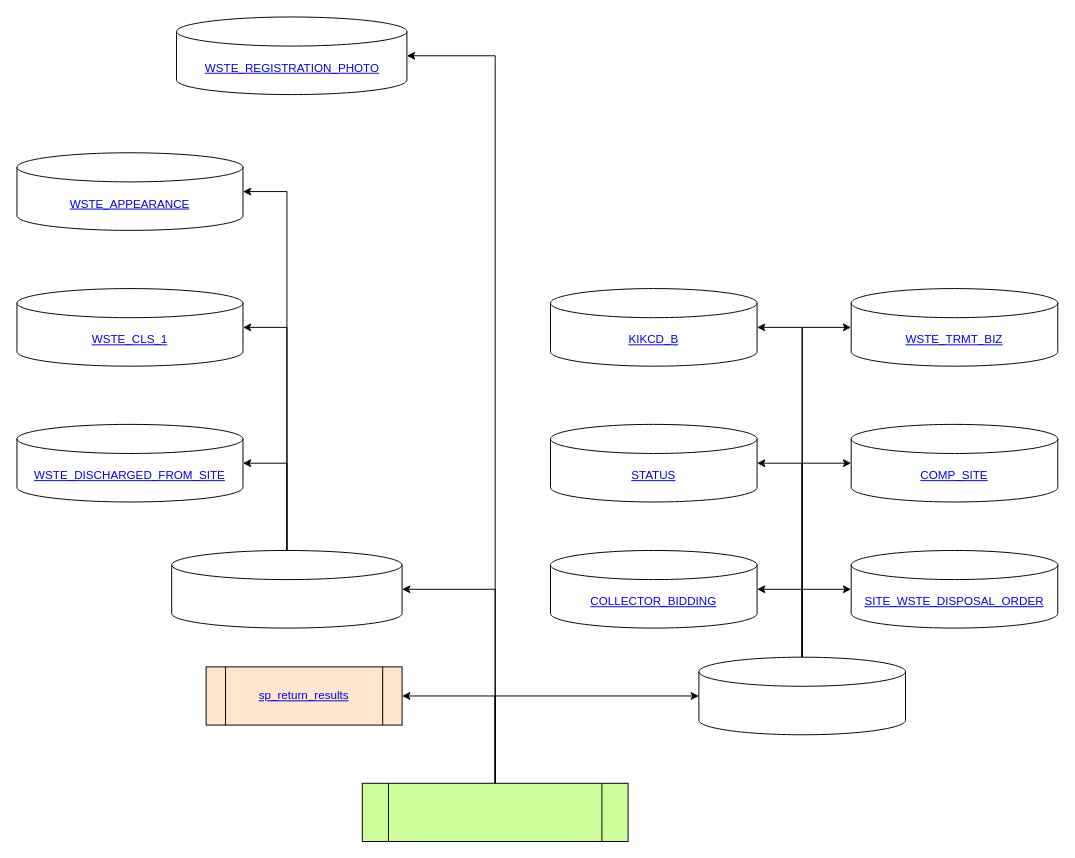
This 1075x858 diagram has some shape labels left out. Each missing label, with the centre of its shape:
"sp_retrieve_current_state_by_option" belongs at pixel 494 811.
"V_COLLECTOR_BIDDING" belongs at pixel 801 695.
"V_WSTE_DISCHARGED_FROM_SITE" belongs at pixel 286 589.
